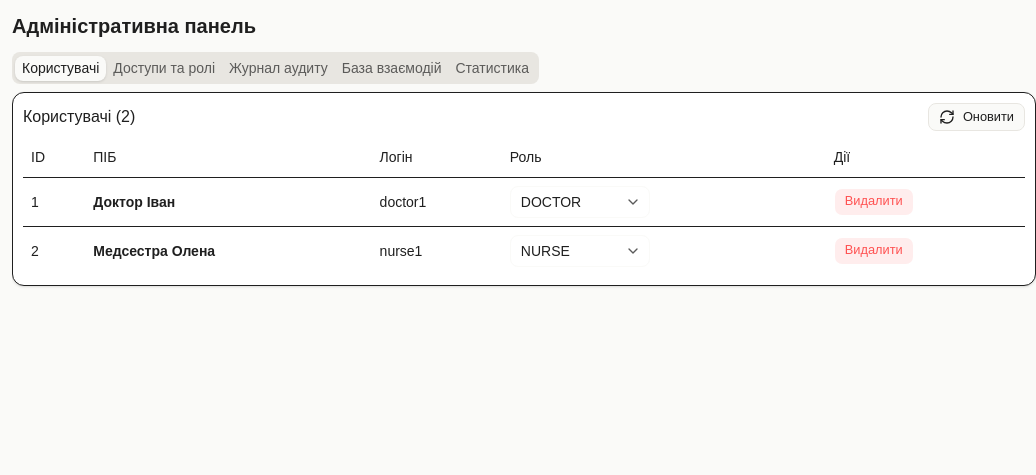
it: AdminPage › runs the legacy backfill and shows the verification report
Step 1. Click the tab "Журнал аудиту" → click(278, 68), box [222,56,335,80]
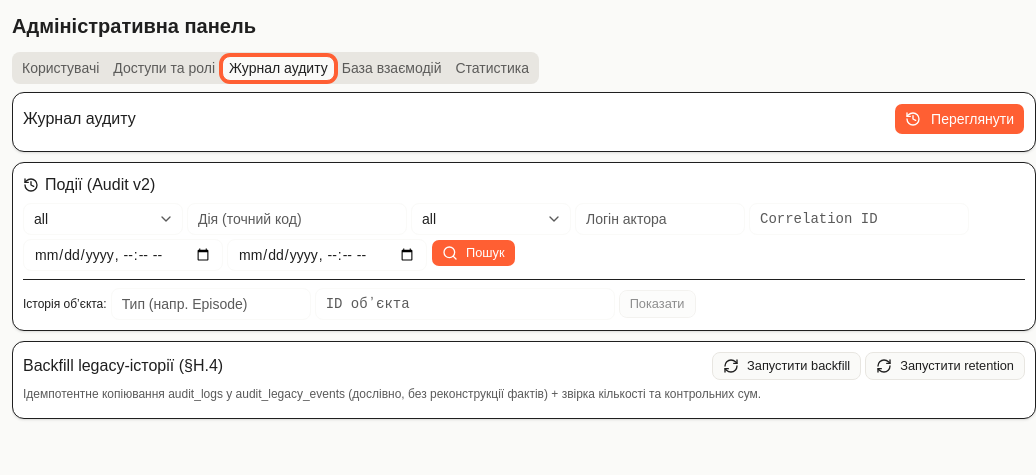
Step 2. Click the button "Запустити backfill" → click(787, 366), box [712,352,861,380]
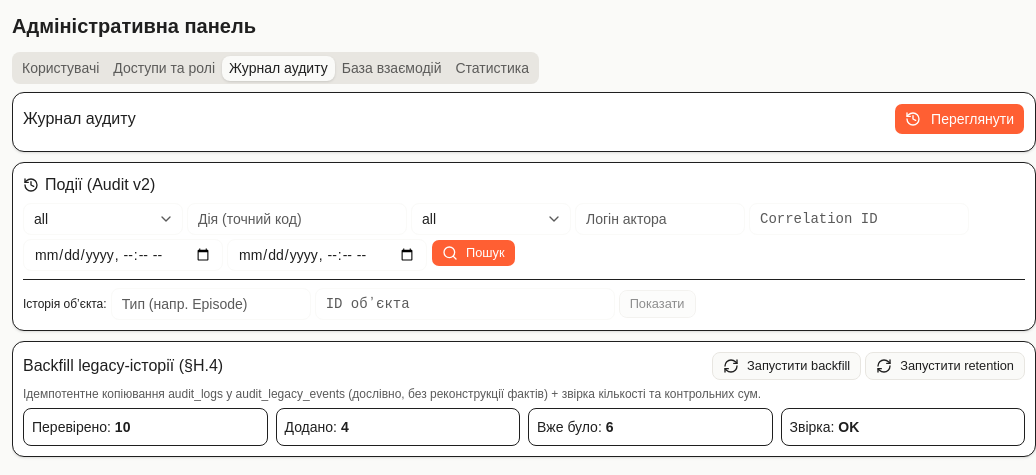
expect the element with test id "backfill-report" is shown: met, box [23,408,1025,446]
expect the text "OK" is shown: met, box [838,419,859,435]
